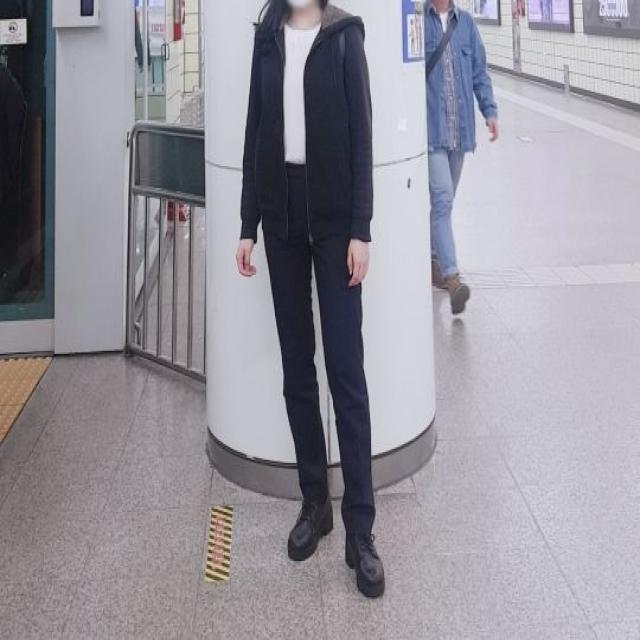denimpants: (263, 160, 378, 530)
zipup: (240, 5, 374, 244)
